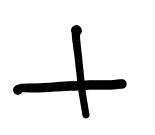plus: (12, 26, 127, 117)
